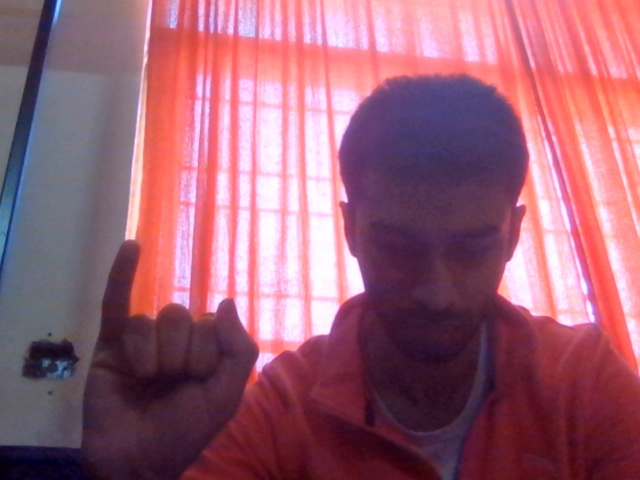I: (59, 209, 270, 480)
